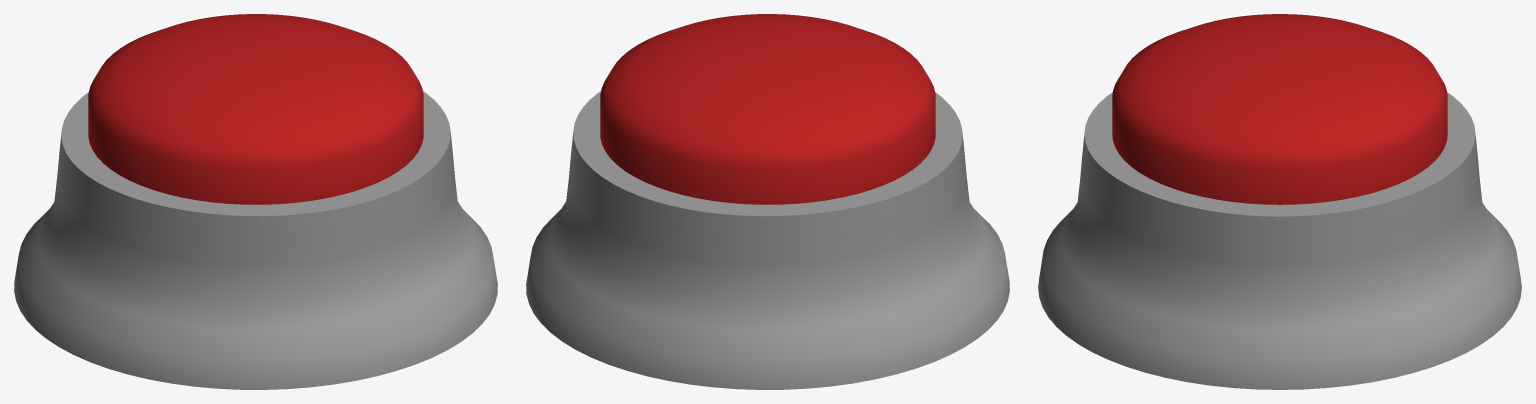
The model's file is Button.dae.
The picture shows the model from 3 angles, left to right: view 1: azimuth 30°, elevation 25°; view 2: azimuth 150°, elevation 25°; view 3: azimuth 270°, elevation 25°; orthographic projection.
Parts seen in each view (by area): view 1: ButtonBase, ButtonTop; view 2: ButtonBase, ButtonTop; view 3: ButtonBase, ButtonTop.
Part boxes in pixels (x1,y1,x2,y2): ButtonBase: (14,91,497,389); ButtonTop: (88,14,423,204); ButtonBase: (526,91,1009,389); ButtonTop: (600,14,935,204); ButtonBase: (1038,92,1521,389); ButtonTop: (1112,14,1447,204).
Size of the model in its own units: 0.1442 by 0.1442 by 0.0769.
